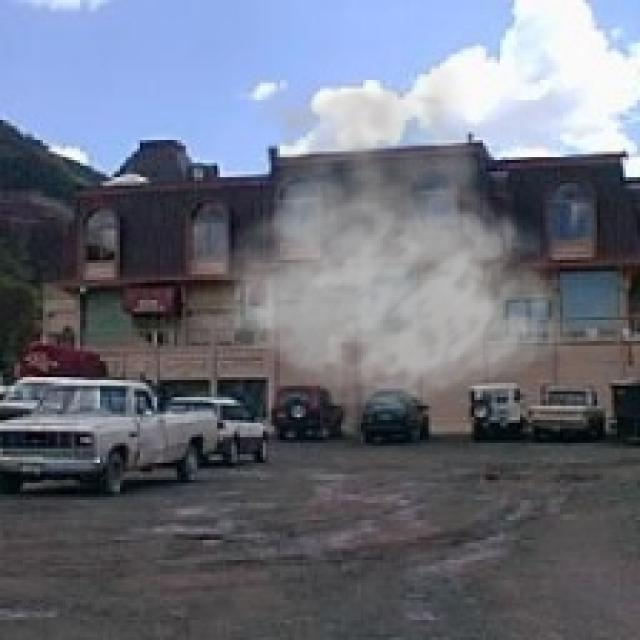smoke: (192, 57, 572, 409)
